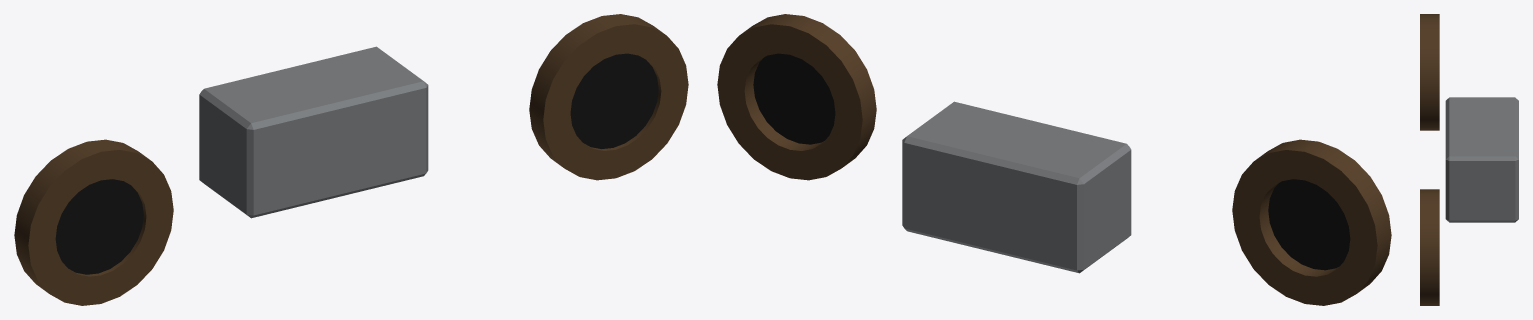
Rendered from ec2_motor.obj.
3 renders of one model, left to right at view 1: azimuth 30°, elevation 25°; view 2: azimuth 150°, elevation 25°; view 3: azimuth 270°, elevation 25°, orthographic. The views are drawn at different scales.
Visible parts, largest first — view 1: ec2_motor; view 2: ec2_motor; view 3: ec2_motor.
Part boxes in pixels (bbox=[...]): ec2_motor: bbox=[14, 14, 688, 305]; ec2_motor: bbox=[717, 14, 1391, 305]; ec2_motor: bbox=[1420, 14, 1518, 305].
Size of the model in its own units: 4.36 by 0.96 by 0.81.
